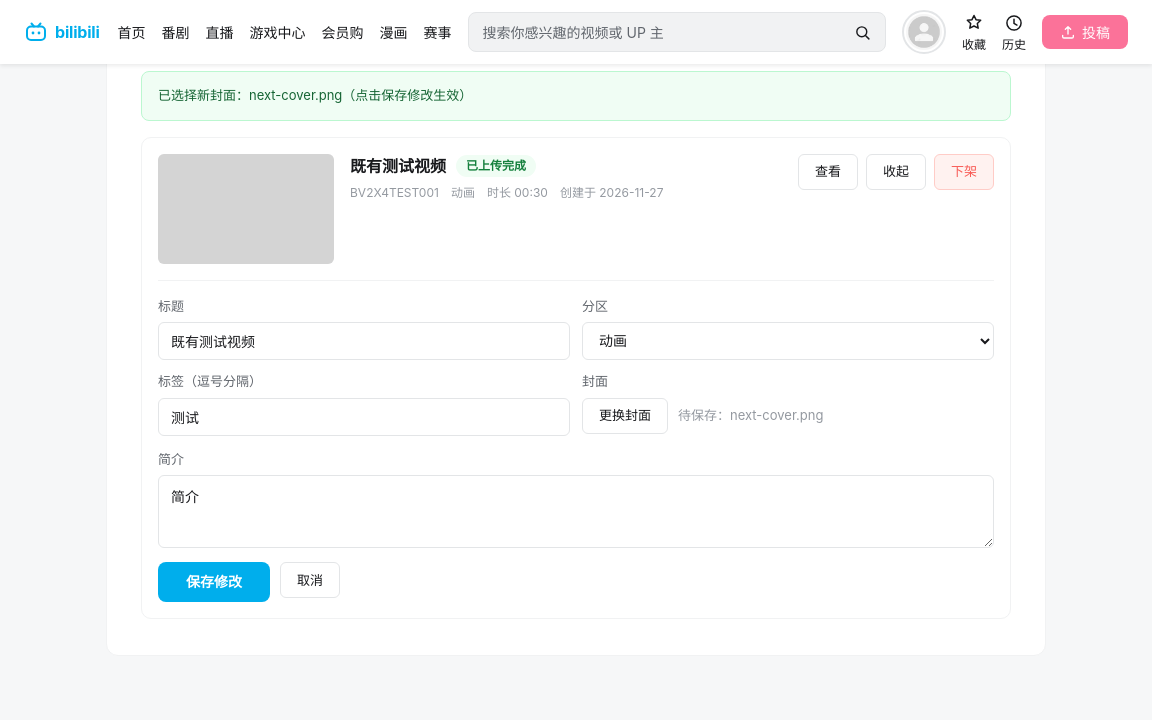
Test: UploadPage 封面本地预览与提交时上传 › 稿件管理编辑封面选择后不上传，点击保存修改才直传临时路径并提交
Earlier steps of the test are not shown.
(page scrolled)
Expected: the text "已选择新封面：next-cover.png（点击保存修改生效）" is shown, [141, 71, 1011, 120]
Click the button "保存修改".
click(214, 582)  # box [158, 562, 270, 602]
(page scrolled)
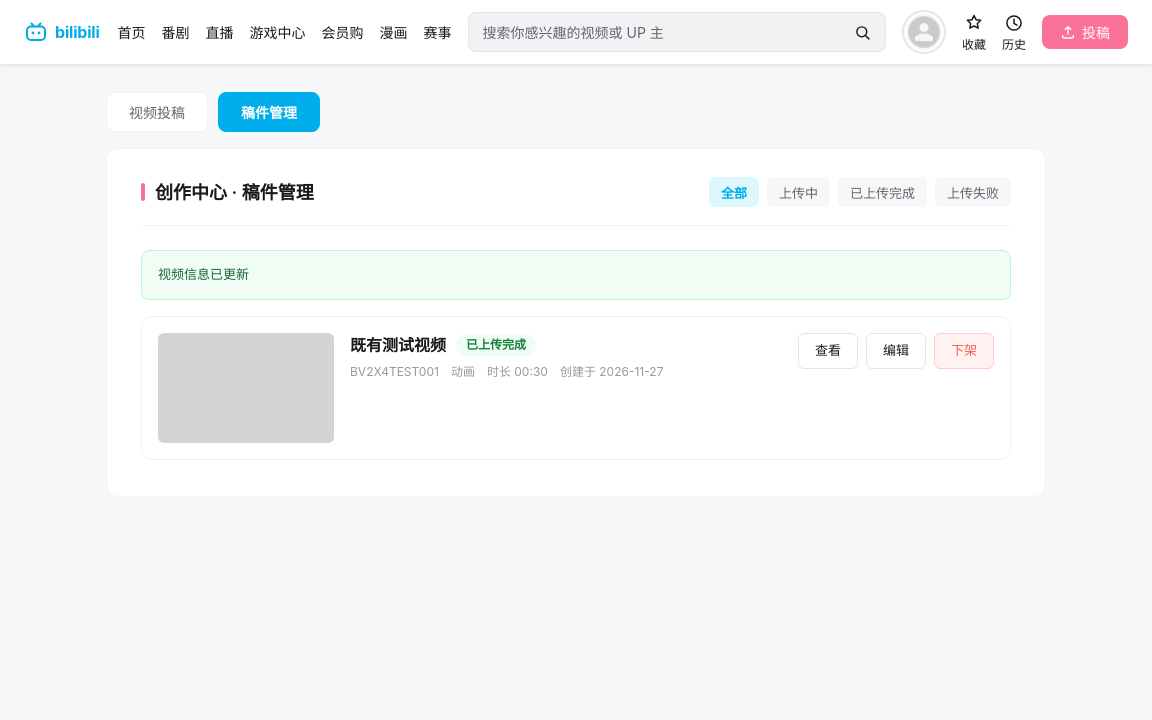
Now the text "视频信息已更新" is shown, box [141, 250, 1011, 300]
